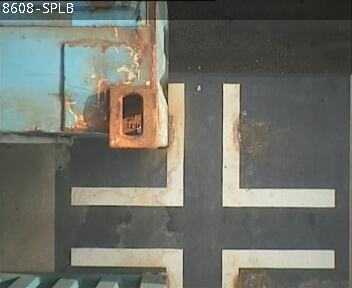groundmarker_1: (71, 85, 334, 207)
